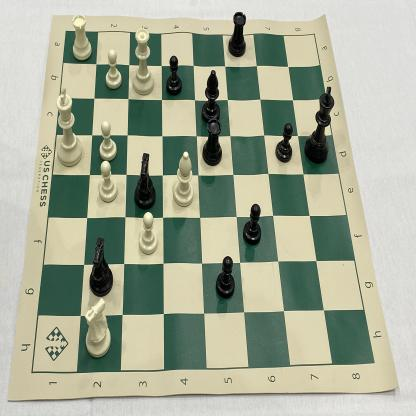black-bishop: (198, 61, 224, 127)
black-king: (304, 81, 337, 168)
black-knight: (86, 233, 117, 297), (133, 149, 157, 211)
black-pawn: (213, 249, 238, 301), (240, 201, 263, 249), (275, 117, 295, 166), (164, 52, 185, 98)
black-rook: (225, 5, 252, 61), (199, 118, 227, 170)
white-bishop: (168, 147, 197, 213)
white-king: (53, 84, 86, 170)
white-knight: (81, 295, 113, 362)
white-pawn: (135, 207, 161, 258), (95, 159, 121, 207), (96, 117, 119, 163), (102, 46, 125, 91)
white-queen: (129, 25, 157, 100)
white-rook: (68, 10, 97, 64)
